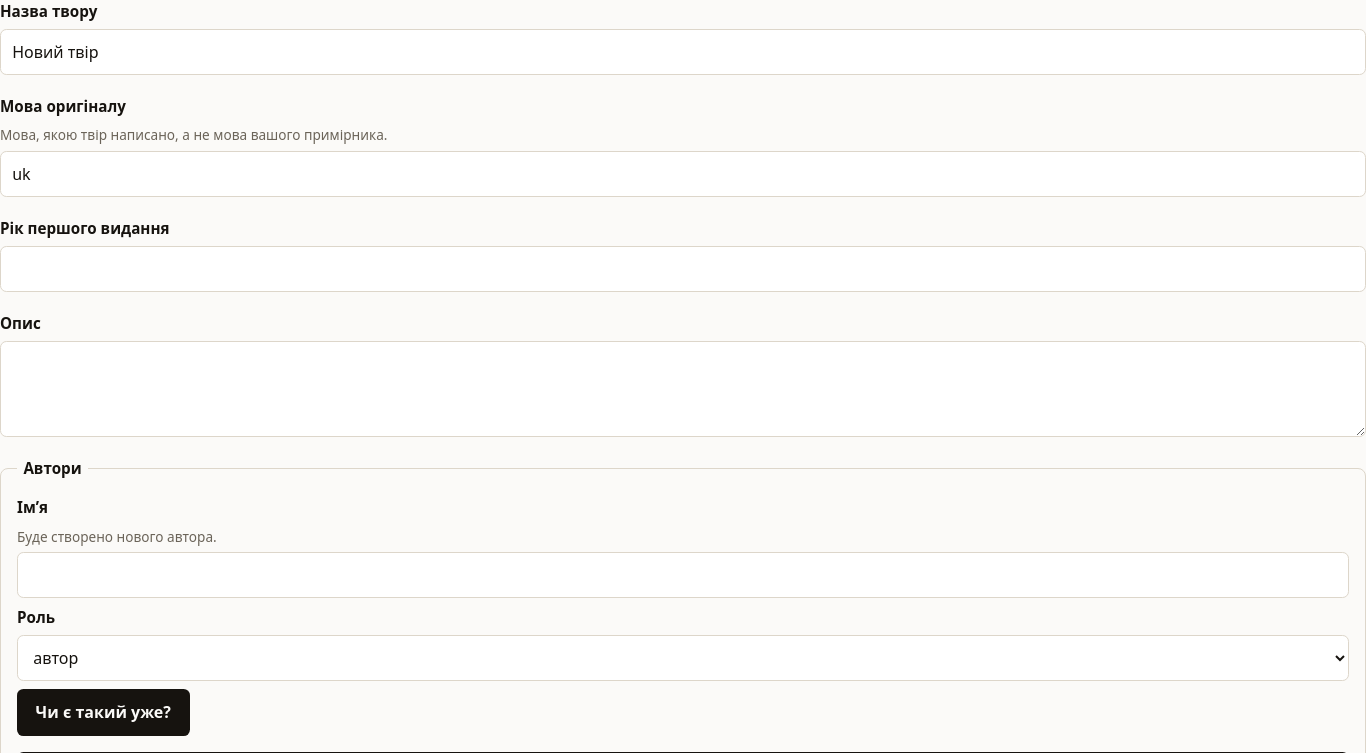
Test: keeps author-search API failure non-blocking
The image size is (1366, 753).
Type "Невідомий" into the field labelled "Імʼя". click: (683, 575)
box: [17,552,1349,598]
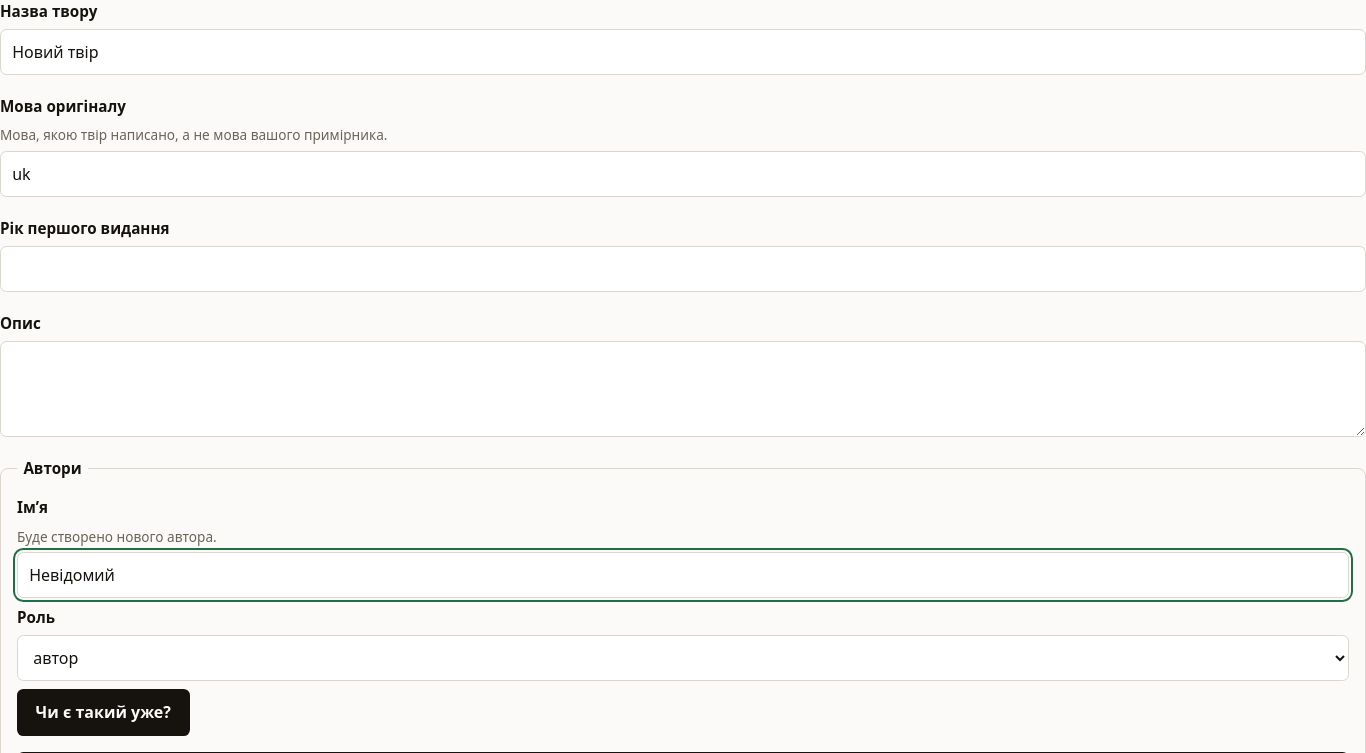
Click the button "Чи є такий уже?". click: (103, 712)
box: [17,688,190,736]
(page scrolled)
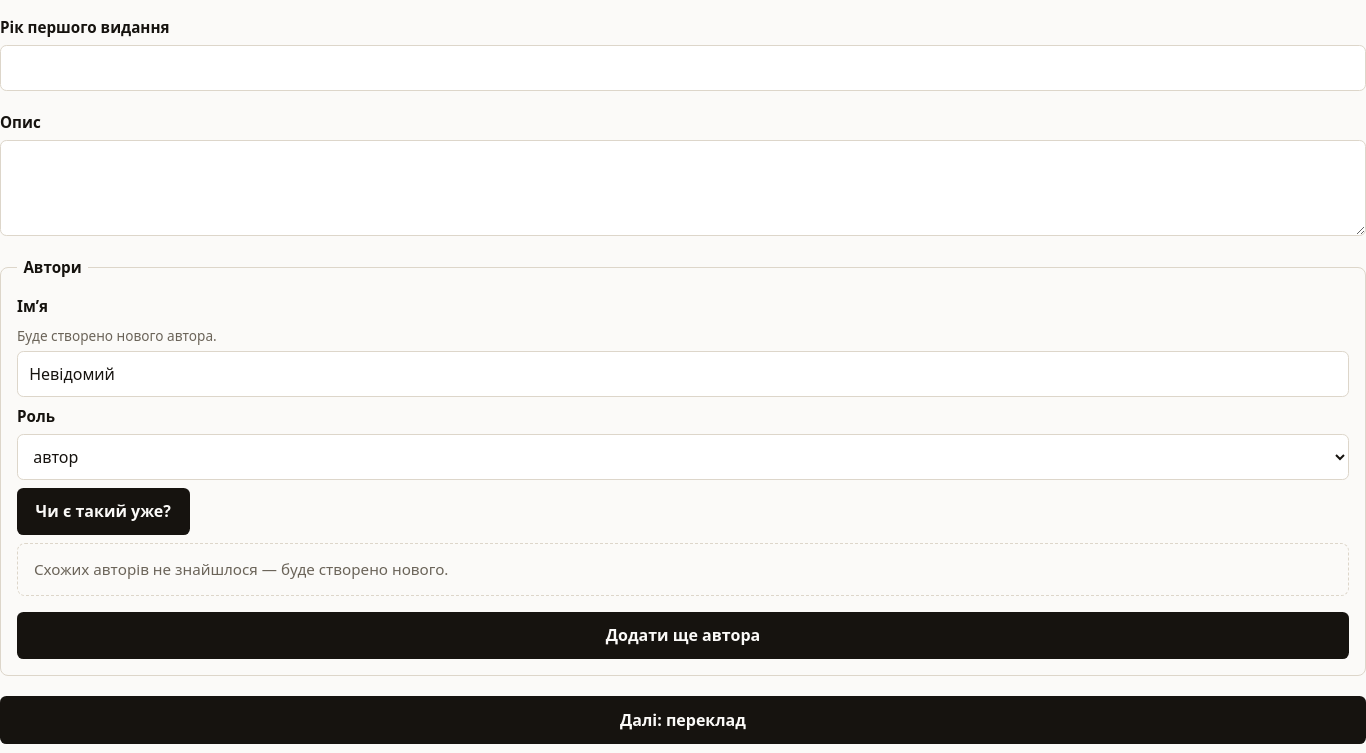
expect the text "Схожих авторів не знайшлося — буде створено нового." is shown: met, box [17,543,1349,596]
